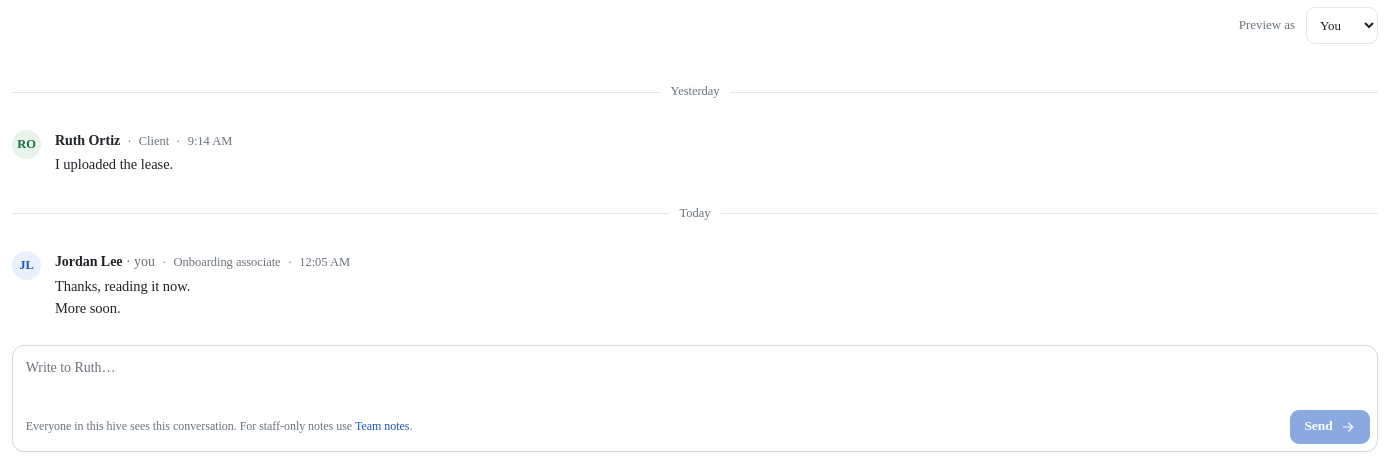
Test case: HiveConversation › Preview as Client flips alignment, replaces the composer and sends nothing
Select "Client" in the dropdown labelled "Preview as" at (1342, 25), box [1306,7,1378,44]
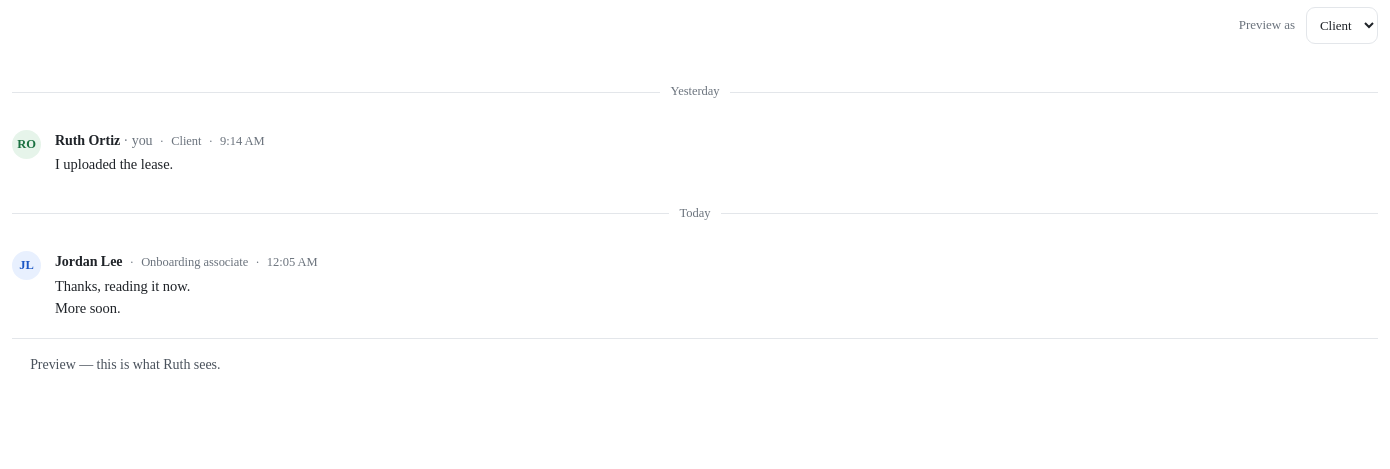
Check: the button "Send" is gone
Check: the element with test id "hive-conversation-people-hint" is gone
Check: the text "Preview — this is what Ruth sees." is shown, box [12,338,1378,390]
Select "You" in the dropdown labelled "Preview as" at (1342, 25), box [1306,7,1378,44]
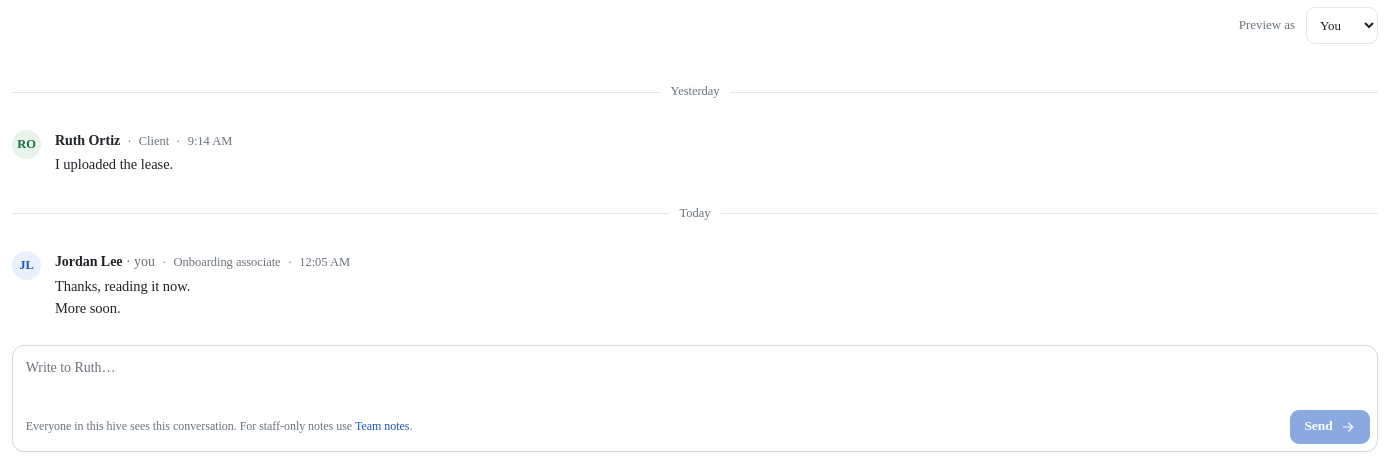
Check: the text box named "Message" is shown, box [13,346,1377,404]
